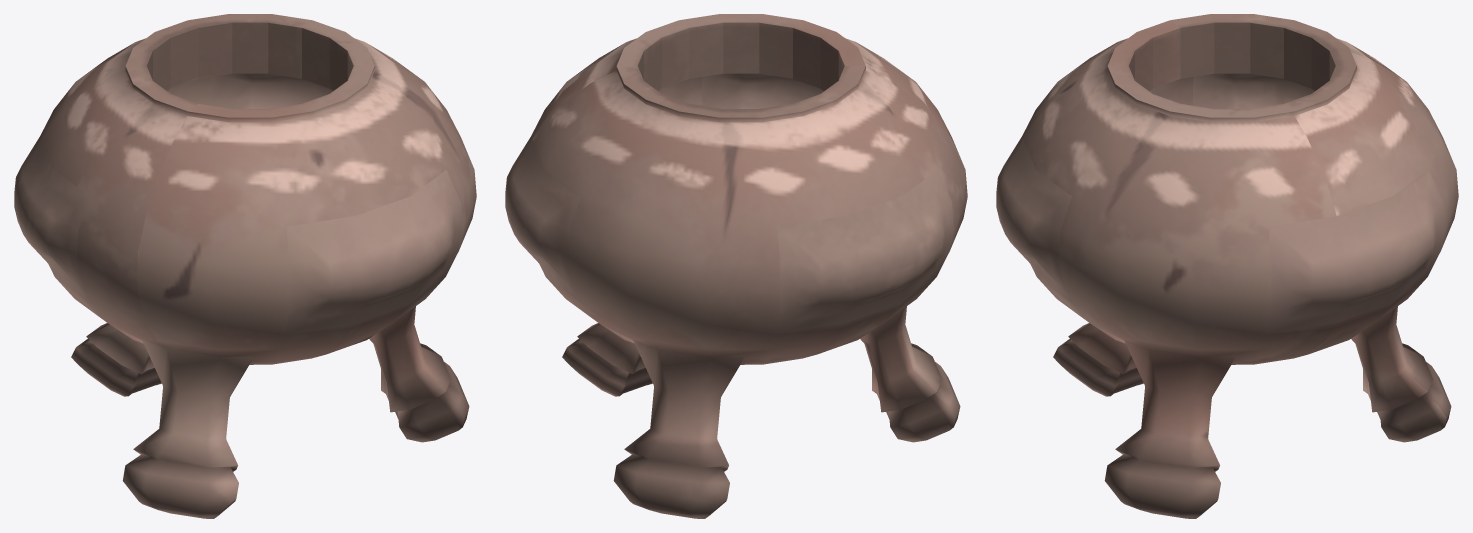
File: boite_a_encens.FBX
The picture shows the model from 3 angles, left to right: view 1: azimuth 30°, elevation 25°; view 2: azimuth 150°, elevation 25°; view 3: azimuth 270°, elevation 25°; orthographic projection.
Visible parts, largest first — view 1: boite_a_encens; view 2: boite_a_encens; view 3: boite_a_encens.
Part boxes in pixels (bbox=[...]): boite_a_encens: bbox=[14, 14, 476, 518]; boite_a_encens: bbox=[505, 14, 967, 518]; boite_a_encens: bbox=[996, 14, 1458, 518].
Bounding box in the file's own units: 90.06 × 82.81 × 91.25.
